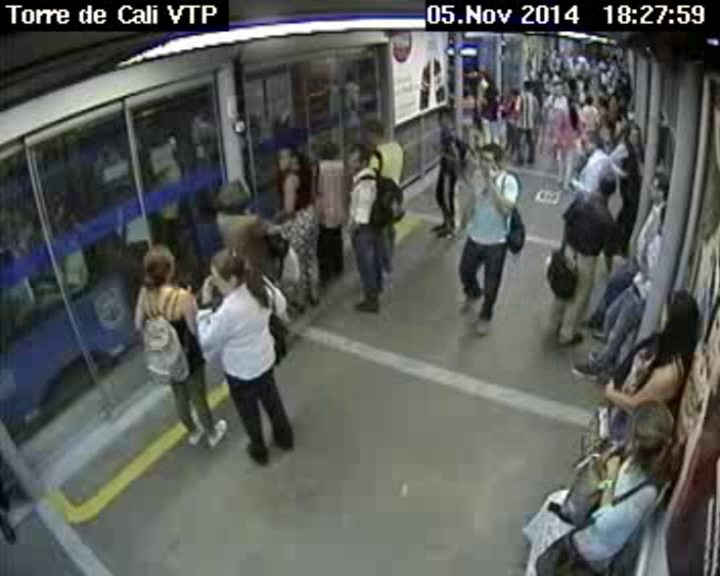person: (624, 393, 682, 480), (202, 243, 258, 299), (659, 287, 698, 346), (135, 238, 181, 286), (212, 178, 260, 220), (479, 142, 507, 178), (648, 169, 673, 206), (273, 143, 304, 172), (345, 143, 367, 174), (360, 121, 389, 143), (598, 170, 621, 197), (320, 137, 341, 165), (583, 131, 603, 153), (623, 120, 641, 143), (599, 119, 616, 143), (436, 107, 455, 125), (596, 98, 609, 115), (566, 95, 579, 111), (483, 85, 497, 98), (507, 88, 519, 103), (474, 67, 486, 79), (523, 79, 532, 92), (553, 84, 563, 95), (585, 92, 593, 105)
